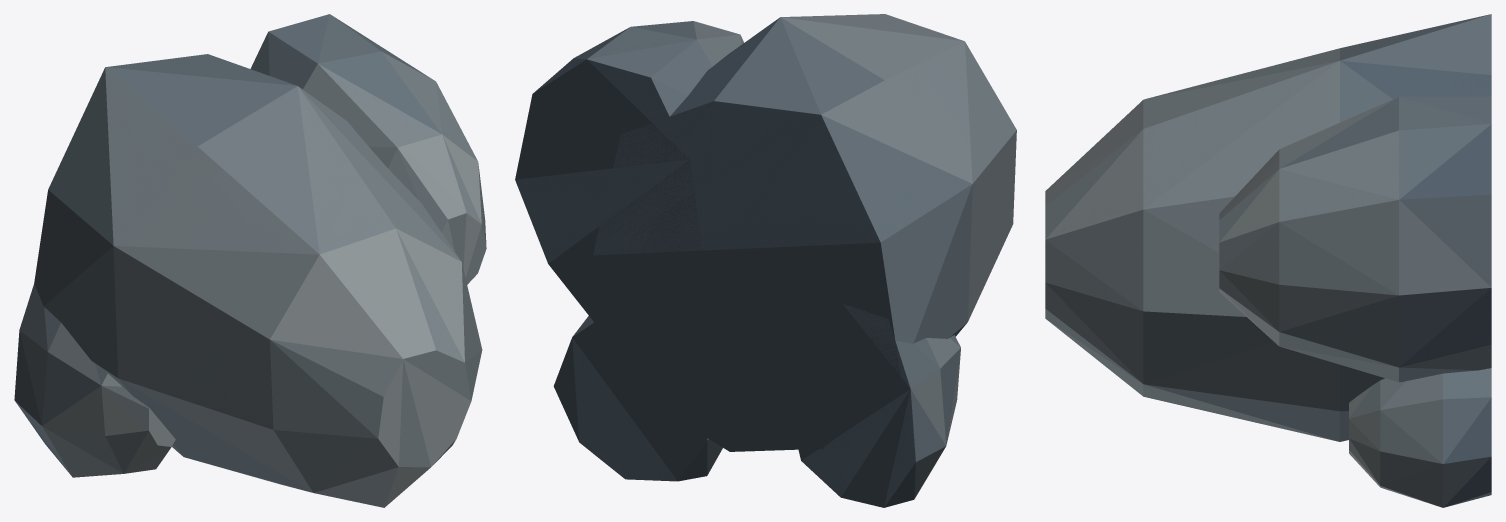
File: k-crag-b.glb
3 views of the same model, side by side, from view 1: azimuth 30°, elevation 25°; view 2: azimuth 150°, elevation 25°; view 3: azimuth 270°, elevation 25° (orthographic). The views are drawn at different scales.
Visible parts, largest first — view 1: Solid.002, Chunk_05.002, Chunk_01.002, Chunk_00.002, Chunk_06.002, Chunk_10.002, Chunk_13.002, Chunk_02.002, Chunk_03.002, Chunk_18.002, Chunk_14.002, Chunk_09.002 (+1 smaller); view 2: Solid.002, Chunk_10.002, Chunk_08.002, Chunk_09.002, Chunk_11.002, Chunk_14.002, Chunk_05.002, Chunk_18.002, Chunk_19.002, Chunk_20.002, Chunk_17.002, Chunk_06.002 (+6 smaller); view 3: Solid.002, Chunk_06.002, Chunk_11.002, Chunk_03.002, Chunk_02.002, Chunk_00.002, Chunk_19.002, Chunk_15.002, Chunk_10.002, Chunk_08.002, Chunk_04.002, Chunk_14.002 (+1 smaller).
Boxes of the visible parts, <box> form: Solid.002: <box>14,14,486,497</box>; Chunk_05.002: <box>80,164,293,429</box>; Chunk_01.002: <box>194,287,400,494</box>; Chunk_00.002: <box>277,163,466,395</box>; Chunk_06.002: <box>317,22,486,280</box>; Chunk_10.002: <box>37,54,280,286</box>; Chunk_13.002: <box>36,369,175,477</box>; Chunk_02.002: <box>331,295,482,507</box>; Chunk_03.002: <box>276,84,469,297</box>; Chunk_18.002: <box>14,283,81,434</box>; Chunk_14.002: <box>250,20,339,115</box>; Chunk_09.002: <box>34,261,203,459</box>; Solid.002: <box>515,17,1015,507</box>; Chunk_10.002: <box>684,25,943,317</box>; Chunk_08.002: <box>593,70,743,423</box>; Chunk_09.002: <box>684,281,966,451</box>; Chunk_11.002: <box>515,53,614,328</box>; Chunk_14.002: <box>609,38,725,326</box>; Chunk_05.002: <box>878,44,1008,322</box>; Chunk_18.002: <box>852,311,951,499</box>; Chunk_19.002: <box>553,319,633,479</box>; Chunk_20.002: <box>633,320,719,481</box>; Chunk_17.002: <box>788,317,852,498</box>; Chunk_06.002: <box>573,21,743,58</box>; Solid.002: <box>1045,14,1491,507</box>; Chunk_06.002: <box>1219,100,1478,347</box>; Chunk_11.002: <box>1320,114,1491,376</box>; Chunk_03.002: <box>1131,56,1414,348</box>; Chunk_02.002: <box>1045,231,1276,405</box>; Chunk_00.002: <box>1045,71,1266,236</box>; Chunk_19.002: <box>1381,369,1491,507</box>; Chunk_15.002: <box>1349,369,1482,486</box>; Chunk_10.002: <box>1339,14,1491,96</box>; Chunk_08.002: <box>1260,337,1384,414</box>; Chunk_04.002: <box>1189,379,1348,441</box>; Chunk_14.002: <box>1385,96,1491,114</box>.
Bounding box in the file's own units: 0.01 × 0.01 × 0.01.
1 material, 1 textured.
